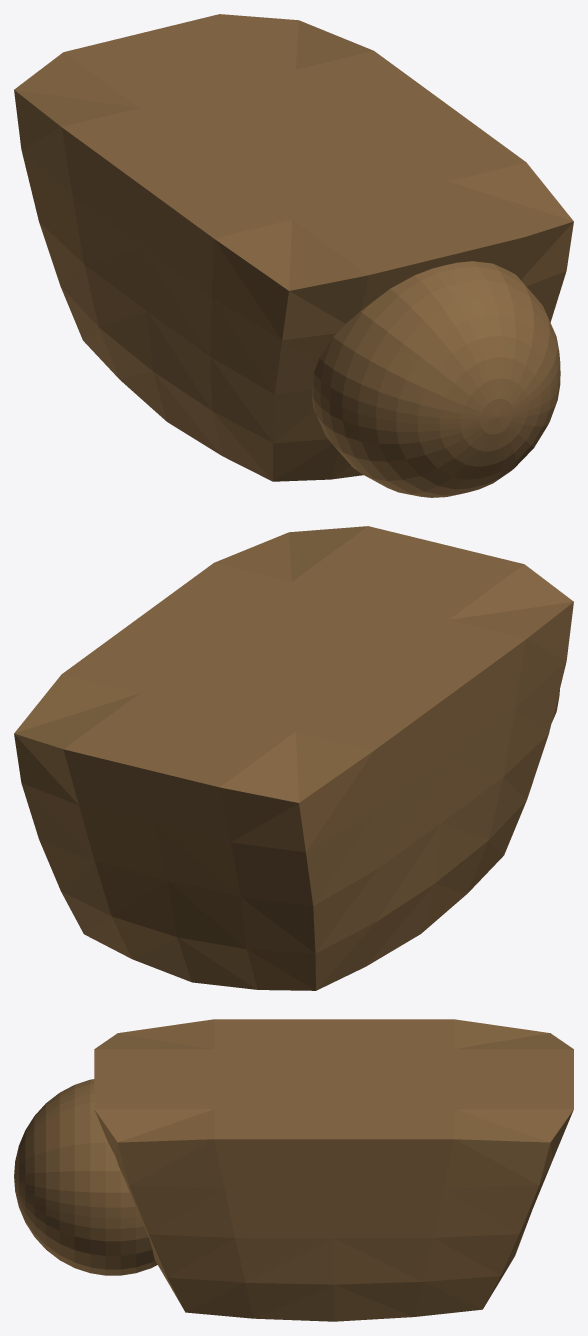
File: RightFingerJoint32y_joint_visu.dae
3 renders of one model, top to bottom at view 1: azimuth 30°, elevation 25°; view 2: azimuth 150°, elevation 25°; view 3: azimuth 270°, elevation 25°, orthographic. The views are drawn at different scales.
Parts seen in each view (by area): view 1: node; view 2: node; view 3: node.
Part boxes in pixels (<box>): node: <box>14,14,573,497</box>; node: <box>14,526,573,990</box>; node: <box>14,1019,573,1321</box>.
Bounding box in the file's own units: 0.0109 × 0.00867 × 0.0214.
